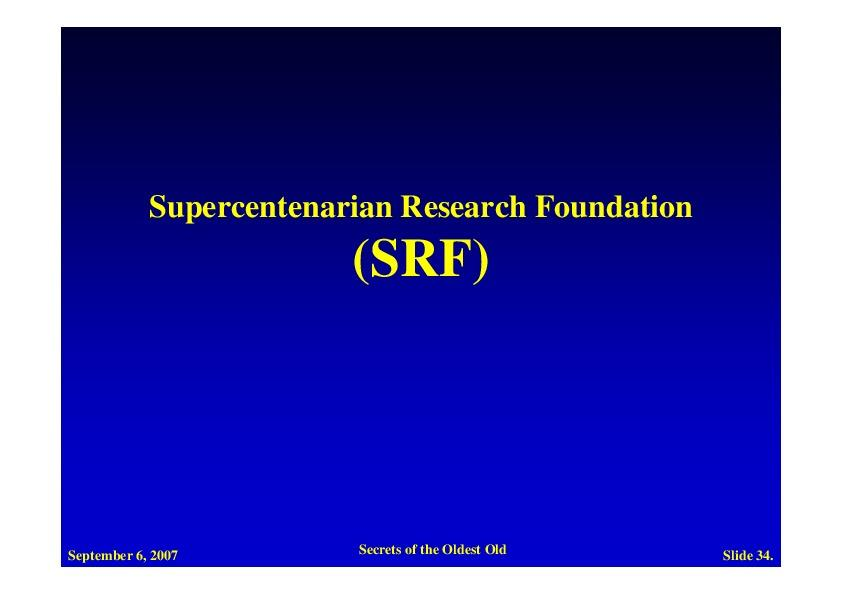subtitle: (65, 540, 785, 567)
title: (140, 165, 710, 299)
